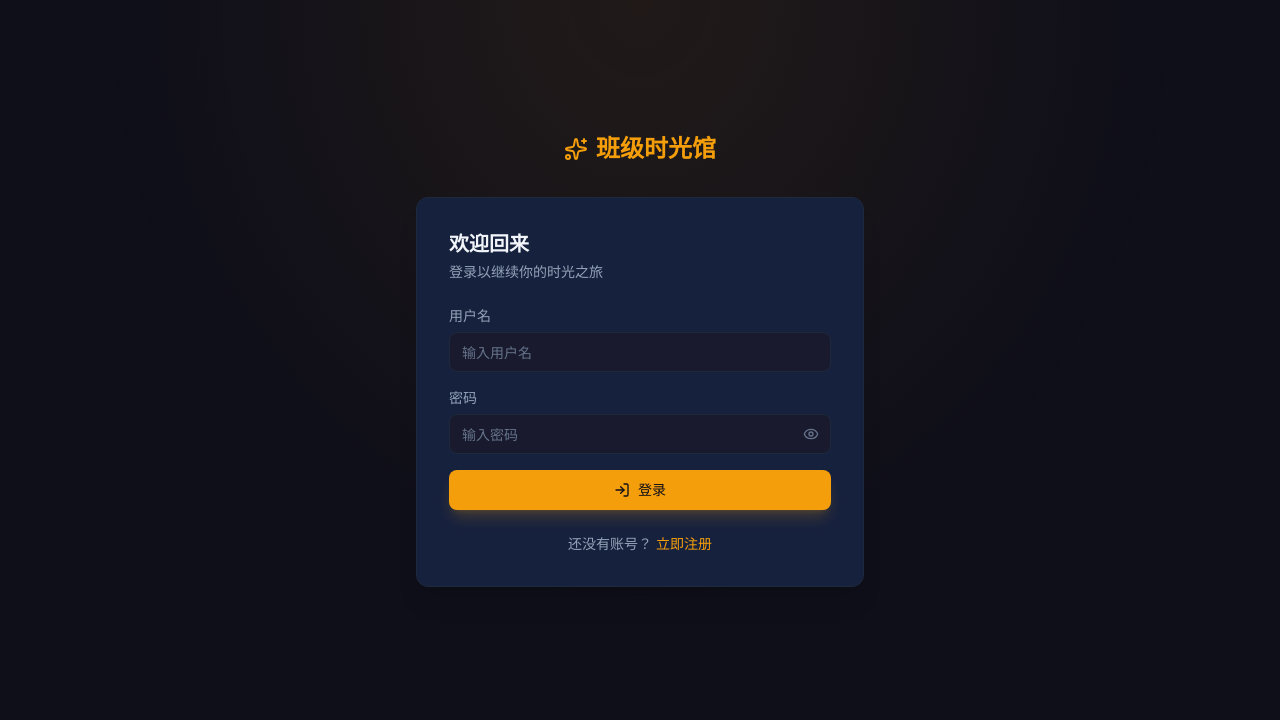
Login Page › shows error on empty submit
Click the button "登录" at (640, 490), box [449,470,831,510]
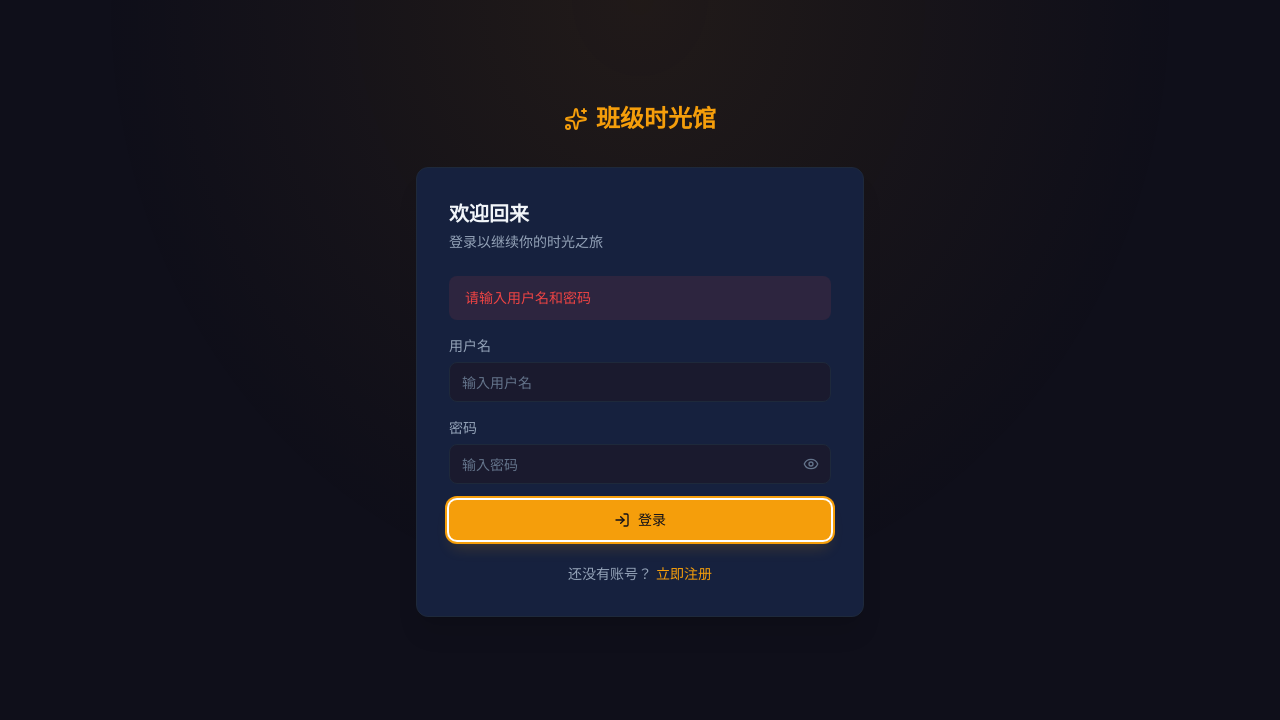
Now the text "请输入用户名和密码" is shown, box [449,276,831,320]
